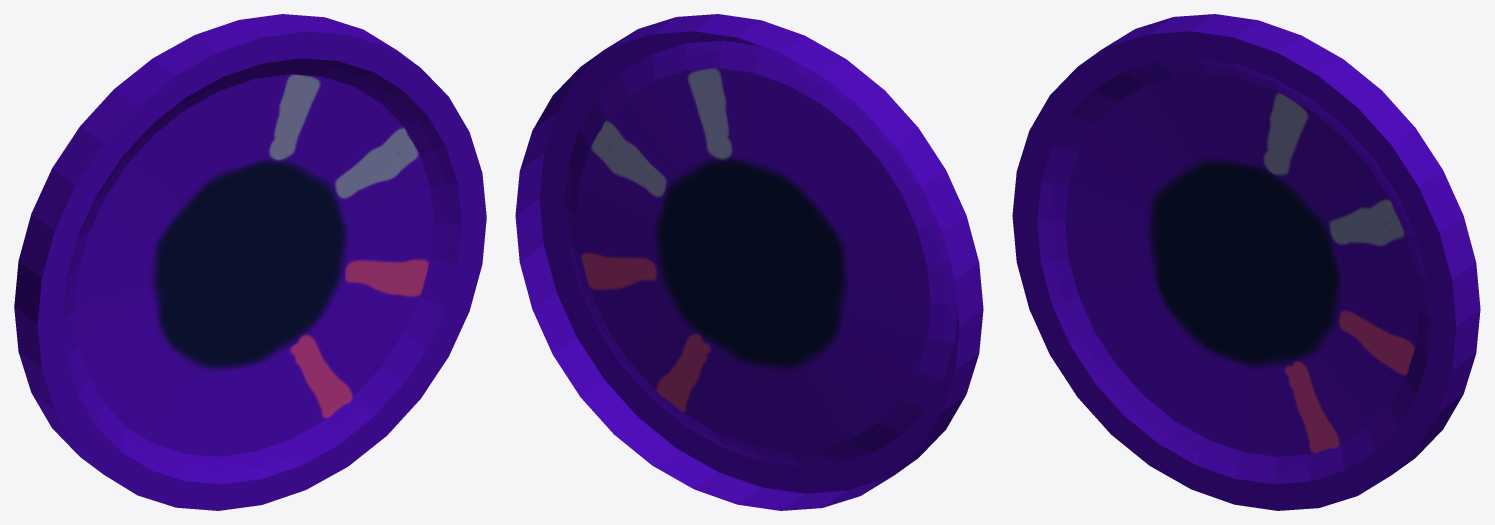
The model's file is boomBass.fbx.
3 views of the same model, side by side, from view 1: azimuth 30°, elevation 25°; view 2: azimuth 150°, elevation 25°; view 3: azimuth 330°, elevation 25° (orthographic).
Visible parts, largest first — view 1: Bass.001; view 2: Bass.001; view 3: Bass.001.
Boxes of the visible parts, x1,y1,x2,y2 form: Bass.001: [14, 14, 486, 510]; Bass.001: [515, 14, 983, 510]; Bass.001: [1012, 14, 1480, 510].
Size of the model in its own units: 107 by 107 by 10.82.
1 material, 1 textured.
